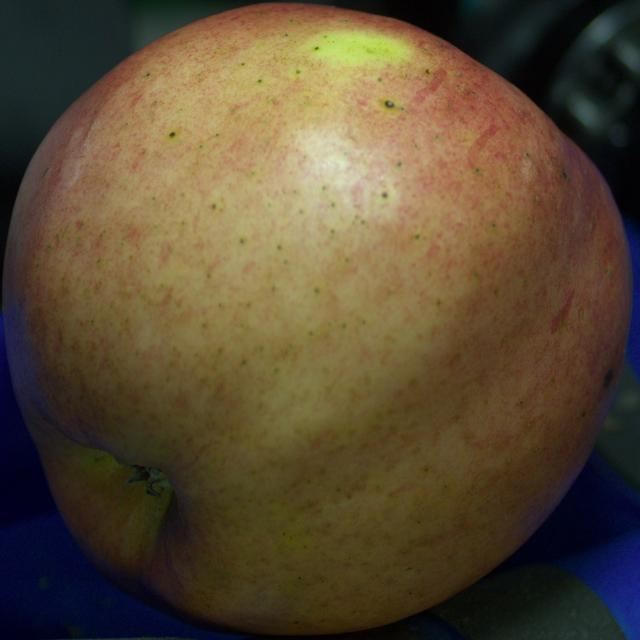apple: (2, 4, 632, 635)
pest: (604, 369, 612, 389), (385, 101, 394, 107), (562, 169, 567, 179), (169, 132, 175, 136)
